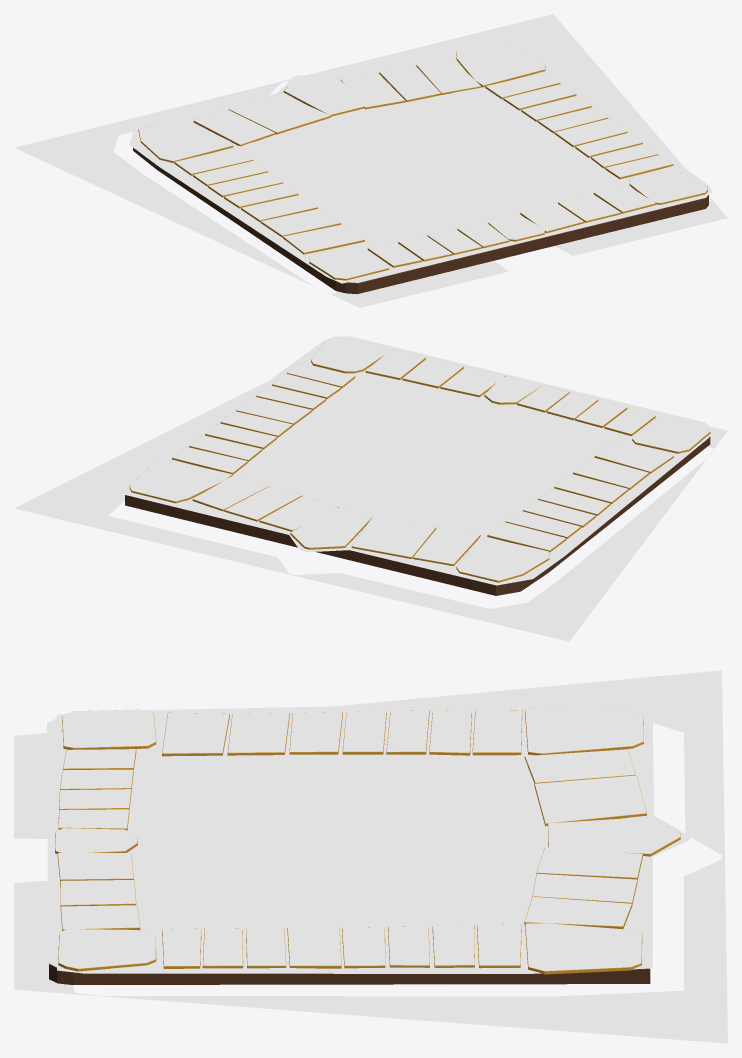
The model's file is reference33-v01.glb.
3 views of the same model, one above another, from view 1: azimuth 30°, elevation 25°; view 2: azimuth 150°, elevation 25°; view 3: azimuth 270°, elevation 25° (orthographic). The views are drawn at different scales.
Visible parts, largest first — view 1: CENTER_ART, TABLE_DECOR, GAP_ART, BOARD_BODY, FRAME_ART, TILE_START, TILE_OLYMPICS, TILE_RR, TILE_EVENT_NORTH, TILE_REST, TILE_AIRPORT, TILE_AM (+26 smaller); view 2: CENTER_ART, TABLE_DECOR, GAP_ART, BOARD_BODY, FRAME_ART, TILE_START, TILE_OLYMPICS, TILE_RR, TILE_EVENT_NORTH, TILE_REST, TILE_AIRPORT, TILE_AM (+26 smaller); view 3: CENTER_ART, TABLE_DECOR, GAP_ART, FRAME_ART, BOARD_BODY, TILE_OLYMPICS, TILE_START, TILE_RR, TILE_EVENT_NORTH, TILE_REST, TILE_AIRPORT, TILE_AM (+26 smaller).
Part boxes in pixels (<box>): CENTER_ART: <box>236,88,617,245</box>; TABLE_DECOR: <box>14,14,727,307</box>; GAP_ART: <box>129,39,712,283</box>; BOARD_BODY: <box>133,148,708,294</box>; FRAME_ART: <box>134,40,708,282</box>; TILE_START: <box>138,119,233,162</box>; TILE_OLYMPICS: <box>456,41,545,87</box>; TILE_RR: <box>228,93,330,134</box>; TILE_EVENT_NORTH: <box>283,76,366,116</box>; TILE_REST: <box>629,168,707,204</box>; TILE_AIRPORT: <box>309,245,389,280</box>; TILE_AM: <box>193,109,275,146</box>; CENTER_ART: <box>237,374,619,537</box>; TABLE_DECOR: <box>14,381,727,641</box>; GAP_ART: <box>124,336,714,585</box>; BOARD_BODY: <box>125,436,710,595</box>; FRAME_ART: <box>126,336,710,583</box>; TILE_START: <box>456,537,549,582</box>; TILE_OLYMPICS: <box>129,459,232,503</box>; TILE_RR: <box>351,515,436,558</box>; TILE_EVENT_NORTH: <box>290,507,372,549</box>; TILE_REST: <box>311,336,389,373</box>; TILE_AIRPORT: <box>632,416,710,453</box>; TILE_AM: <box>413,528,480,566</box>; CENTER_ART: <box>142,755,529,925</box>; TABLE_DECOR: <box>14,670,727,1043</box>; GAP_ART: <box>56,702,689,973</box>; FRAME_ART: <box>47,707,648,968</box>; BOARD_BODY: <box>49,963,650,984</box>; TILE_OLYMPICS: <box>525,923,642,974</box>; TILE_START: <box>525,705,643,755</box>; TILE_RR: <box>534,775,646,826</box>; TILE_EVENT_NORTH: <box>548,817,680,856</box>; TILE_REST: <box>58,929,156,971</box>; TILE_AIRPORT: <box>62,709,156,749</box>; TILE_AM: <box>524,749,635,783</box>.
Bounding box in the file's own units: 18.03 × 0.5 × 14.58.
